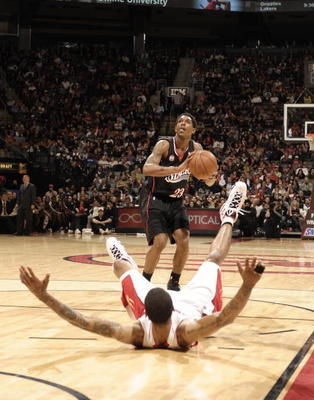10+: (4, 24, 314, 294)
down: (12, 179, 270, 357)
